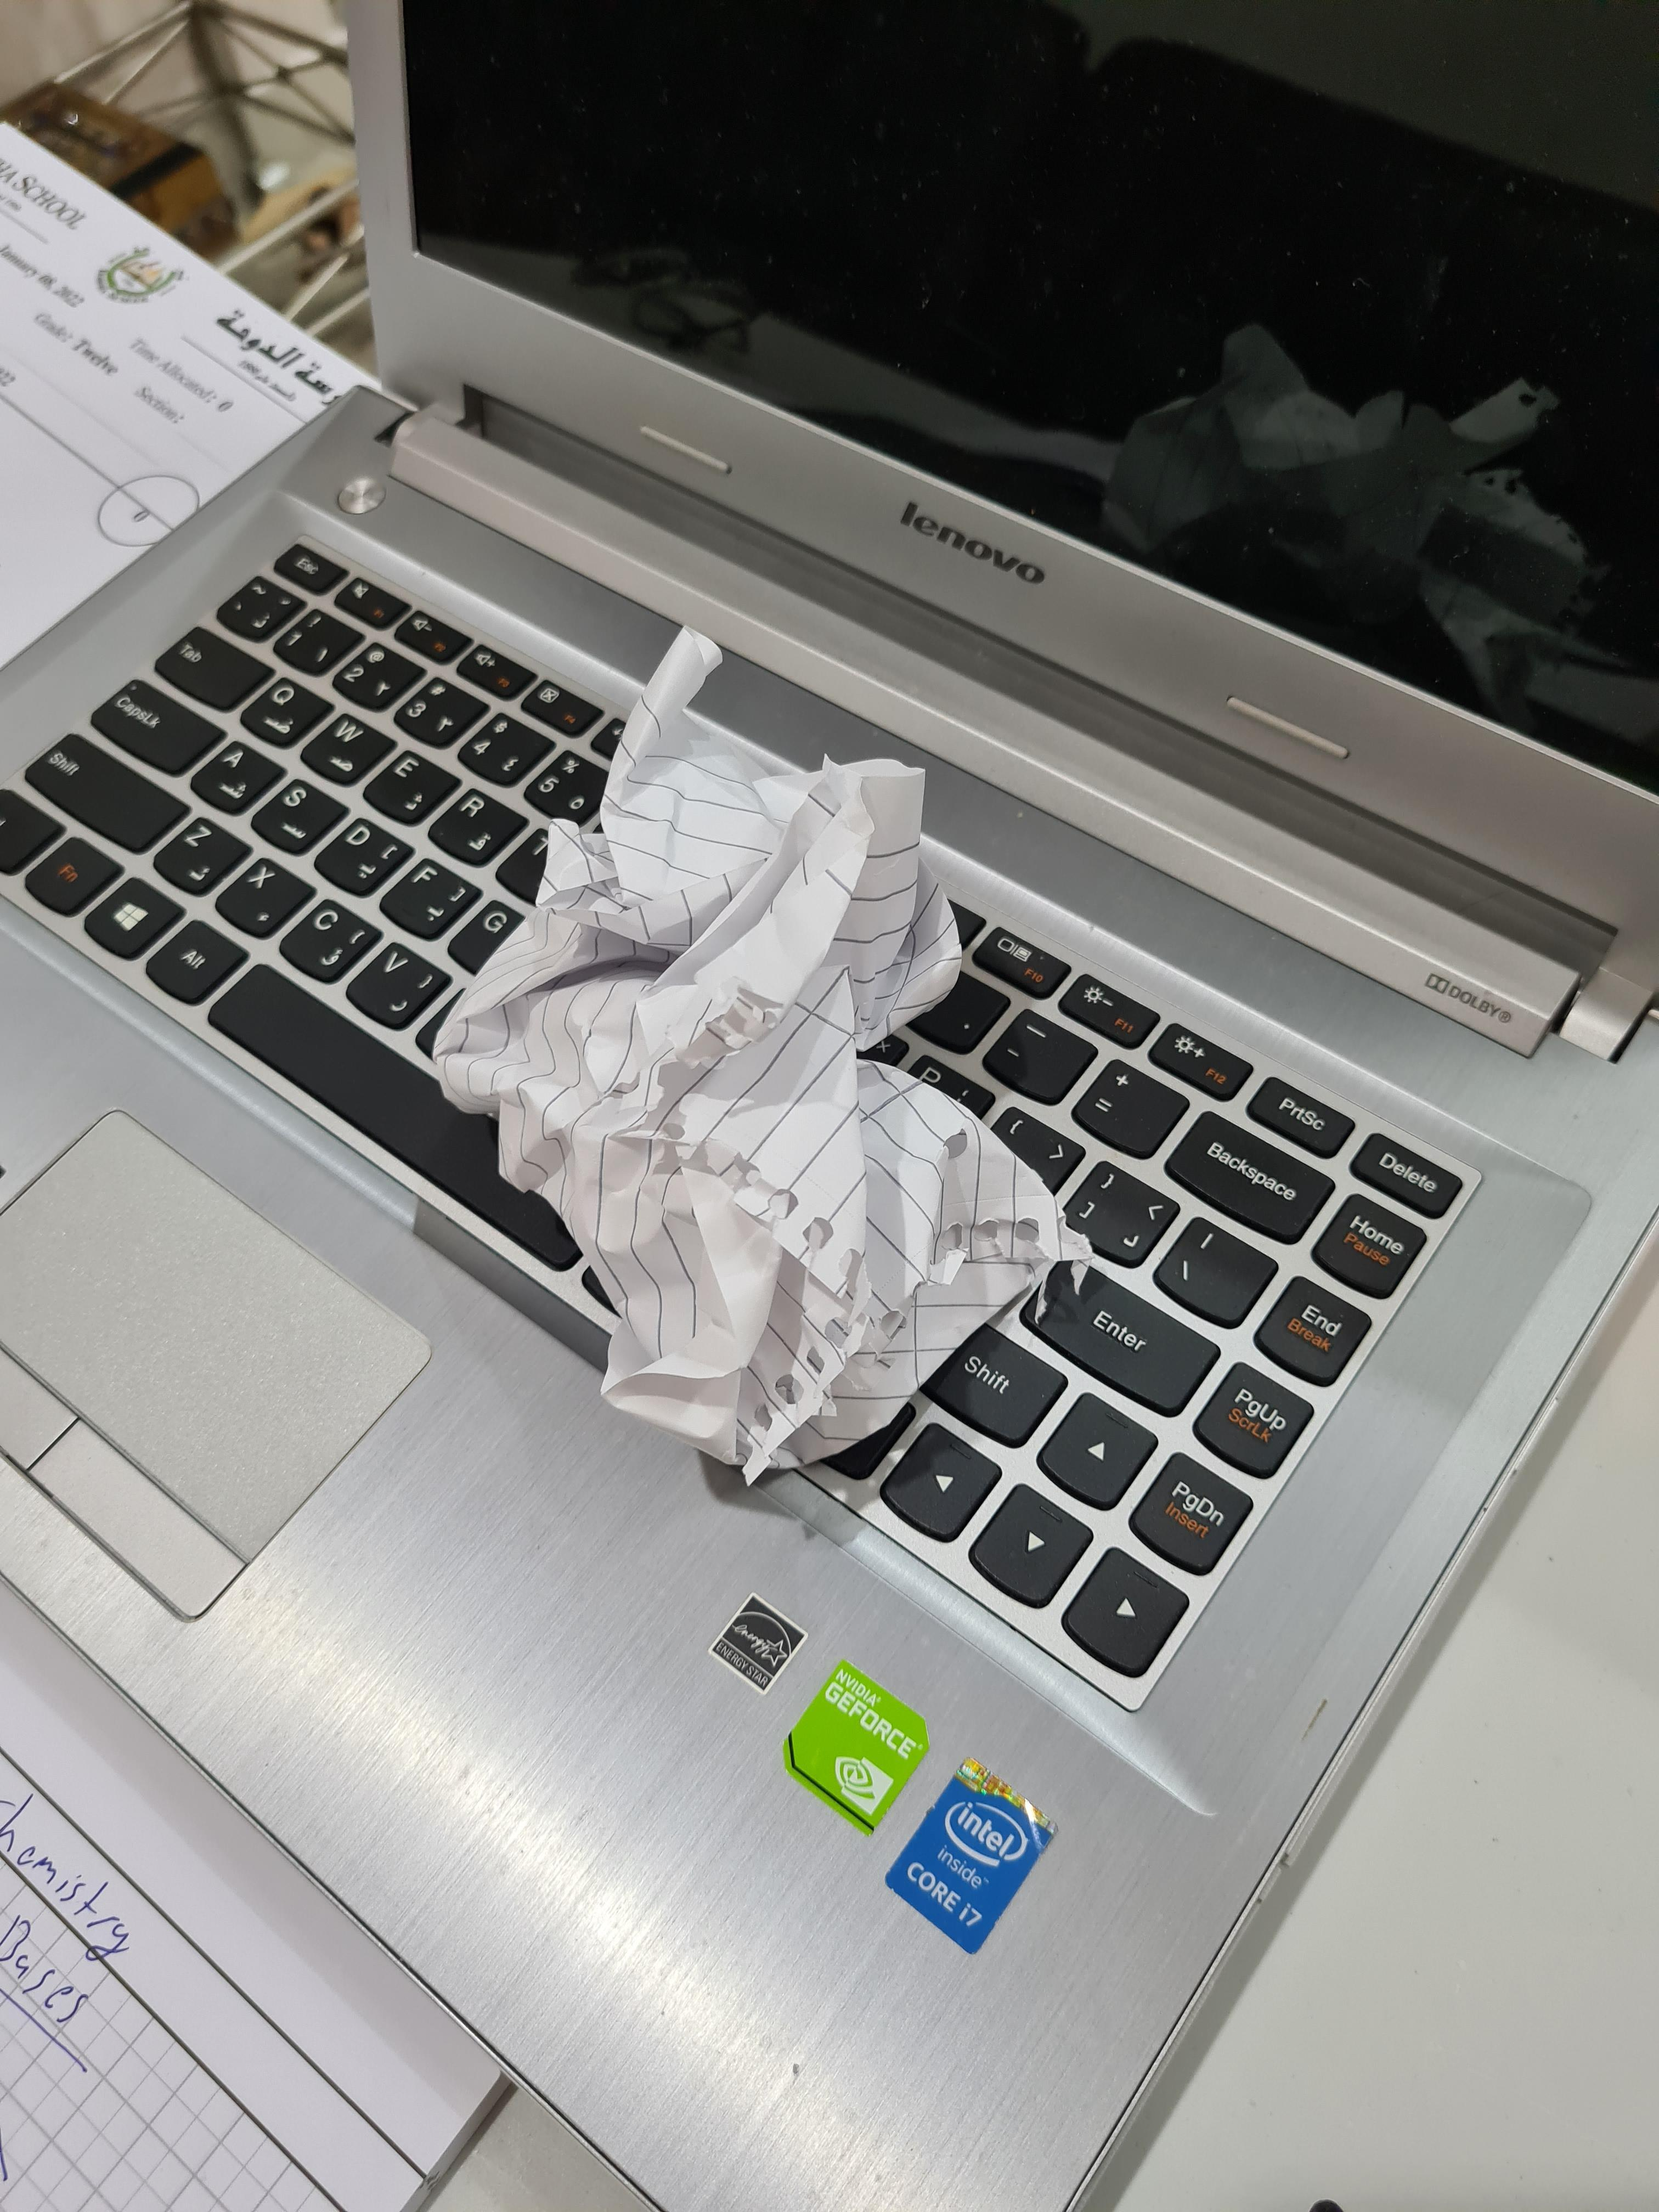Paper: (500, 648, 1034, 1472)
